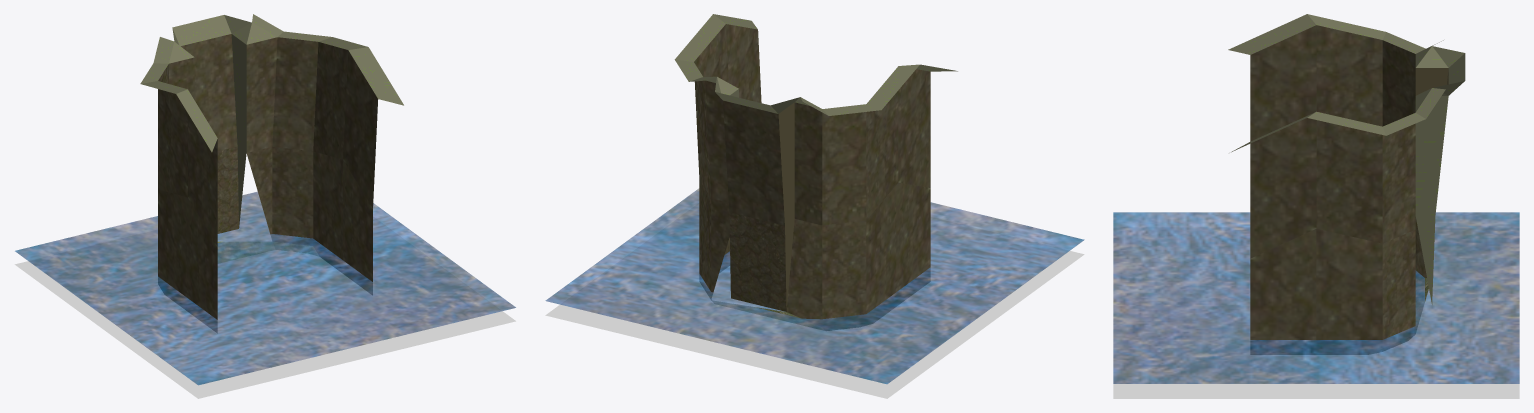
The model's file is world idea 1.gltf.
3 renders of one model, left to right at view 1: azimuth 30°, elevation 25°; view 2: azimuth 150°, elevation 25°; view 3: azimuth 270°, elevation 25°, orthographic. The views are drawn at different scales.
Visible parts, largest first — view 1: Cube, water, waterfloor; view 2: Cube, waterfloor, water; view 3: Cube, water, waterfloor.
Boxes of the visible parts, bbox=[...] form: Cube: bbox=[140, 14, 403, 332]; water: bbox=[15, 191, 515, 385]; waterfloor: bbox=[14, 205, 515, 398]; Cube: bbox=[674, 14, 957, 330]; waterfloor: bbox=[545, 203, 1084, 398]; water: bbox=[545, 188, 1084, 384]; Cube: bbox=[1228, 14, 1465, 354]; water: bbox=[1113, 212, 1519, 383]; waterfloor: bbox=[1113, 227, 1519, 398].
Bounding box in the file's own units: 24.6 × 19.17 × 24.6.
4 materials, 3 textured.
